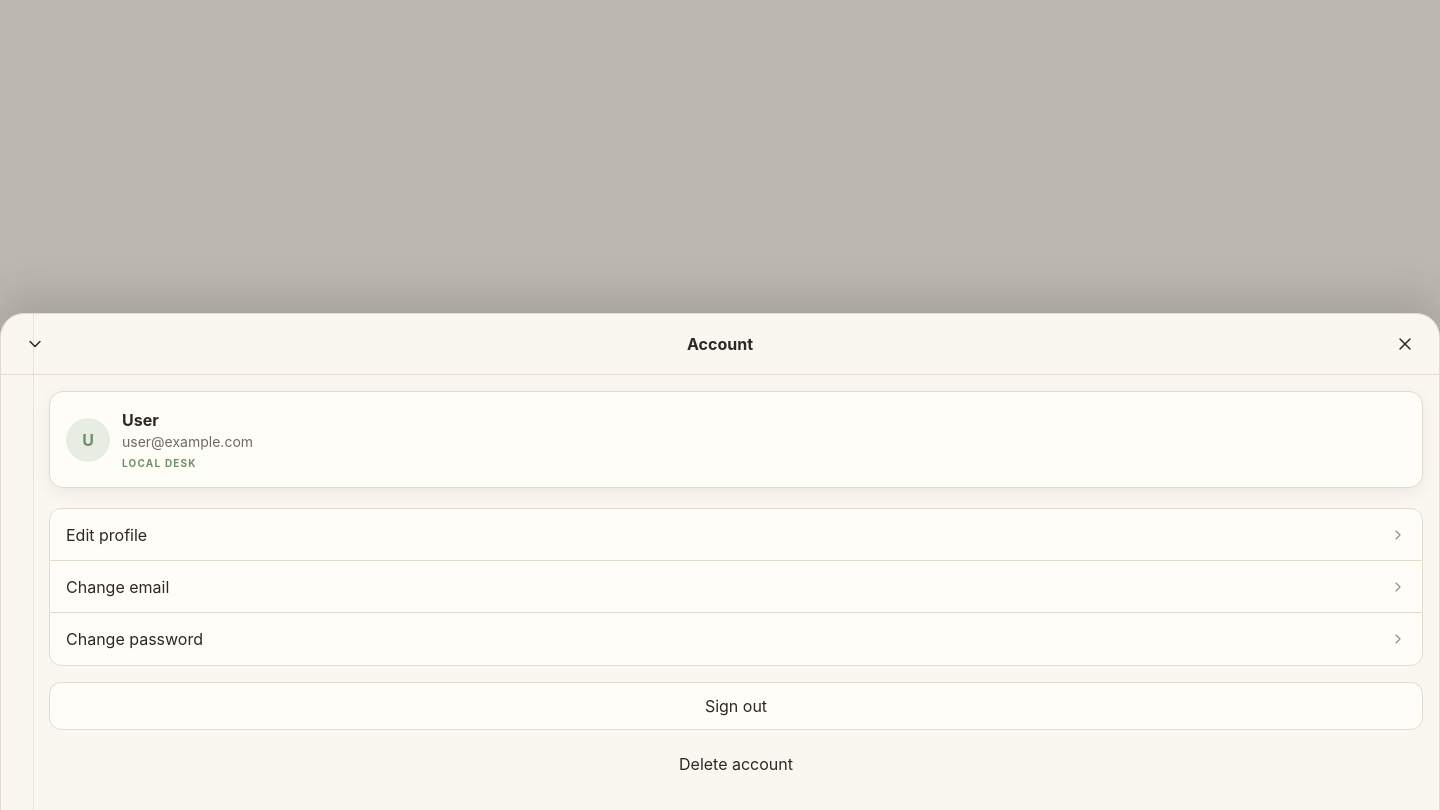
Test case: AccountSheet › keeps the account open and explains a failed sign out
Click the button "Sign out".
click(736, 706)  # box [49,682,1423,730]
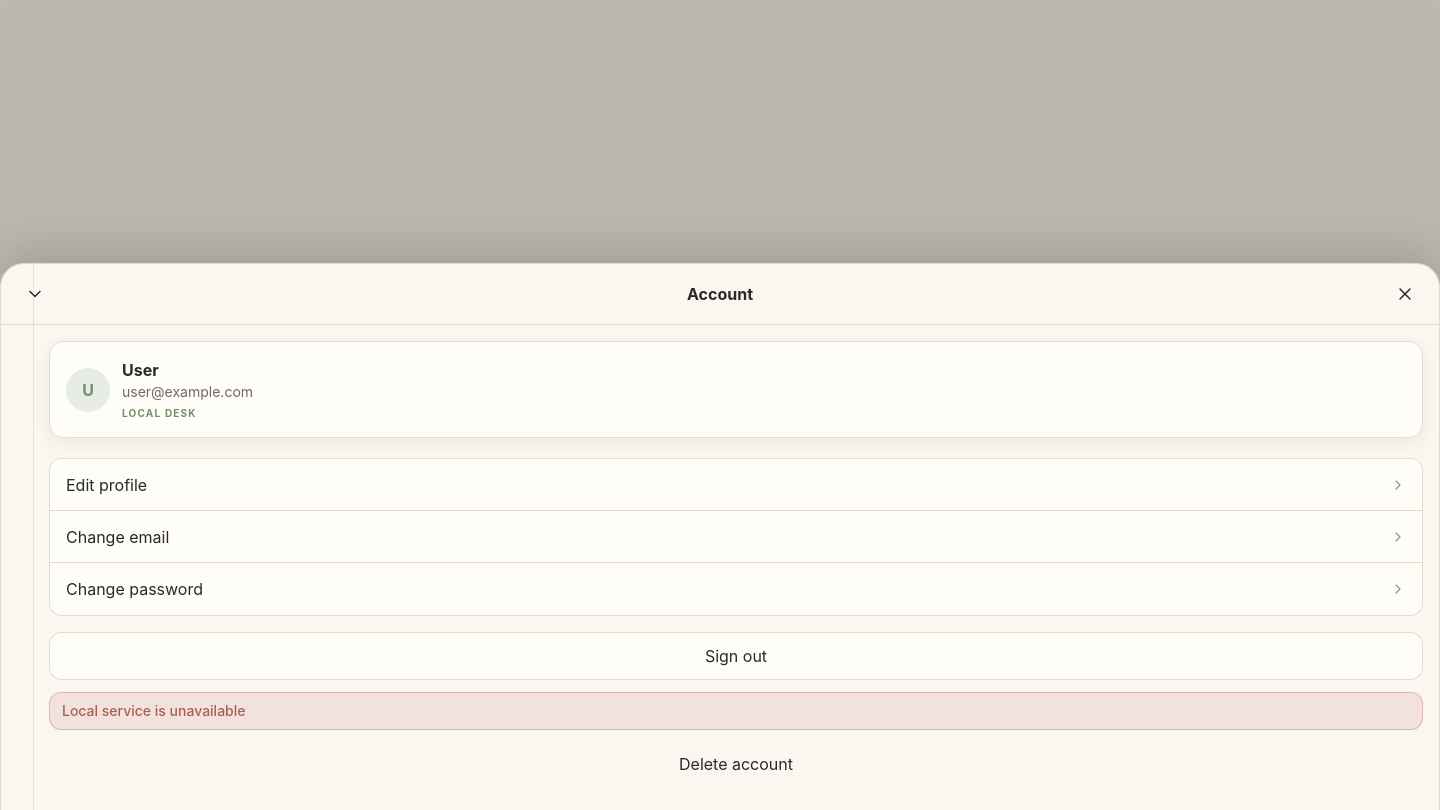
Check: the button "Sign out" is enabled, box [49,632,1423,680]
Check: the message reads "Local service is unavailable", box [62,702,246,719]
